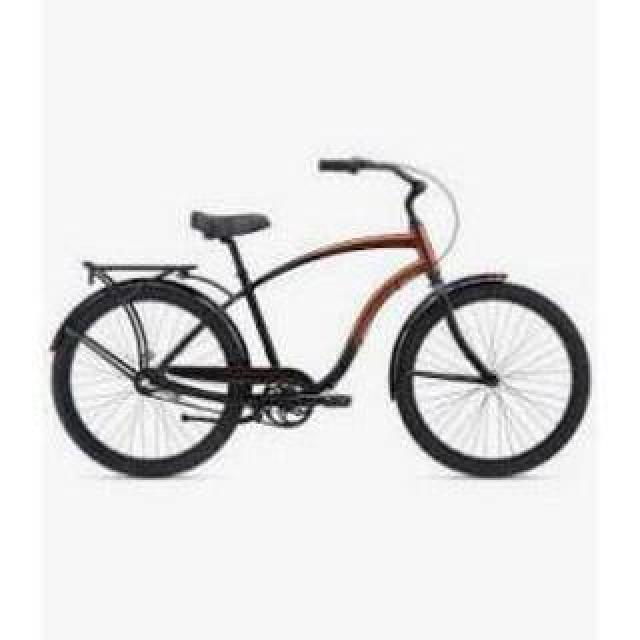Person: (45, 151, 593, 479)
